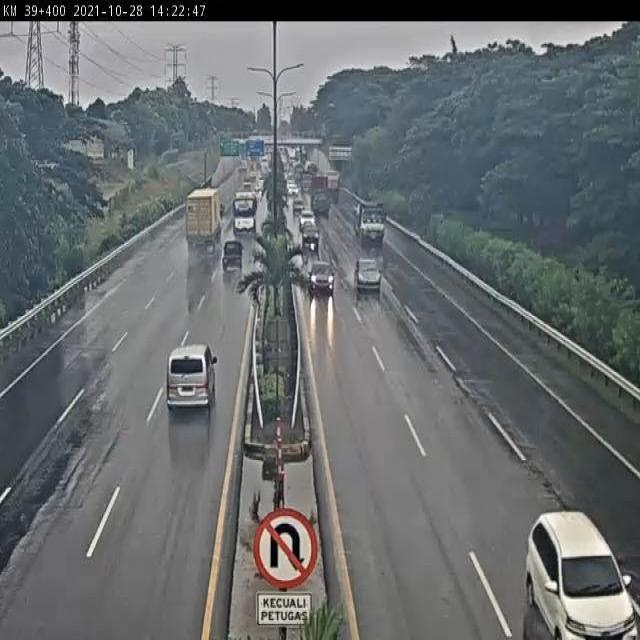car: (163, 340, 217, 415), (309, 260, 336, 300), (355, 257, 383, 295), (222, 237, 246, 275)
truck-l-: (353, 201, 389, 248)
truck-xl-: (184, 184, 224, 256)
